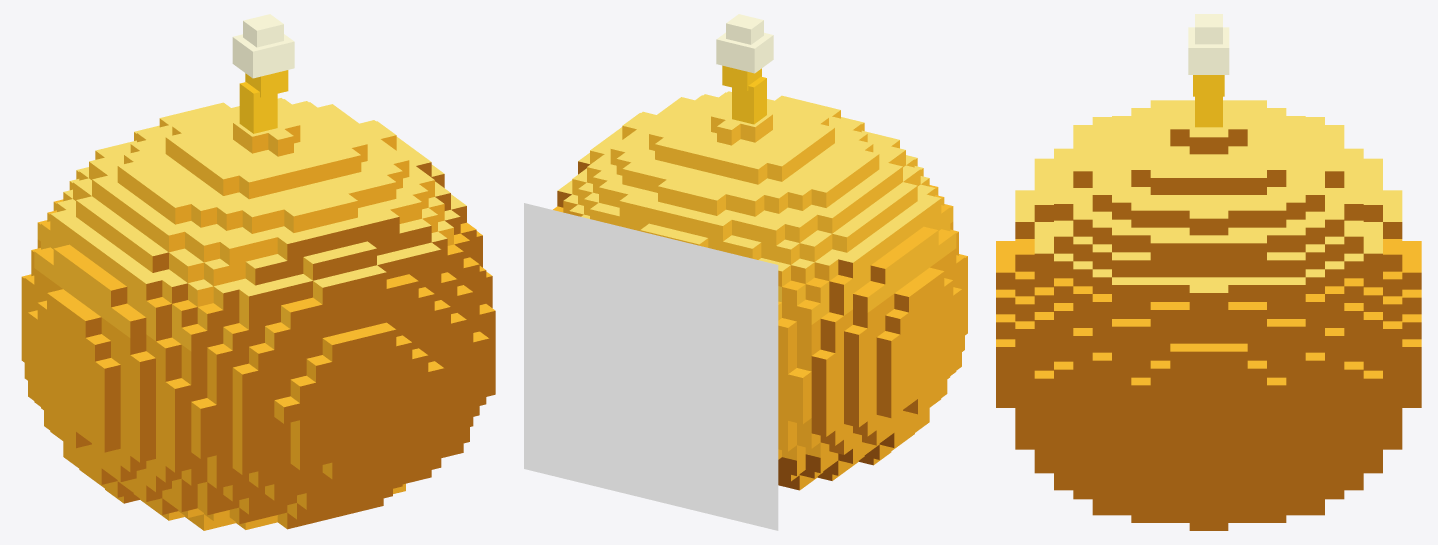
The model's file is slime_electro.glb.
3 views of the same model, side by side, from view 1: azimuth 30°, elevation 25°; view 2: azimuth 150°, elevation 25°; view 3: azimuth 270°, elevation 25° (orthographic). The views are drawn at different scales.
Visible parts, largest first — view 1: Shell, ElectroAntenna; view 2: Shell, Face, ElectroAntenna; view 3: Shell, ElectroAntenna.
Part boxes in pixels (x1=…): Shell: x1=21, y1=98, x2=495, y2=530; ElectroAntenna: x1=232, y1=14, x2=294, y2=133; Shell: x1=553, y1=91, x2=967, y2=490; Face: x1=524, y1=203, x2=778, y2=530; ElectroAntenna: x1=716, y1=14, x2=773, y2=124; Shell: x1=996, y1=100, x2=1421, y2=530; ElectroAntenna: x1=1188, y1=14, x2=1229, y2=127.
Bounding box in the file's own units: 1.2 × 1.31 × 1.15.
